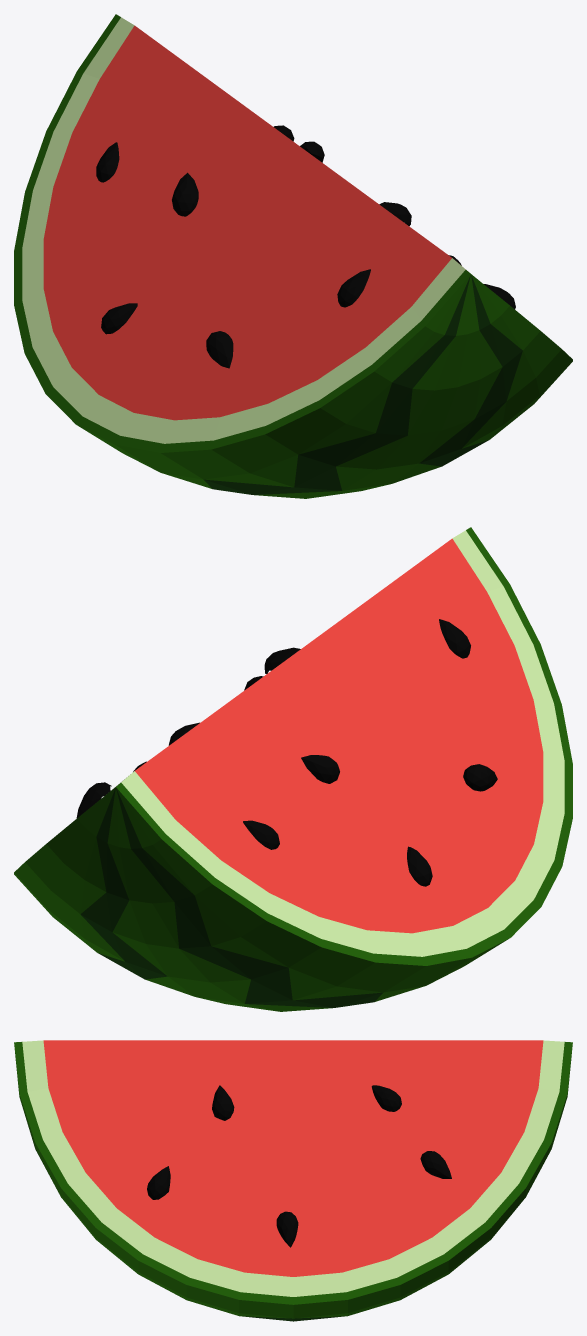
Rendered from watermelon.glb.
3 views of the same model, one above another, from view 1: azimuth 30°, elevation 25°; view 2: azimuth 150°, elevation 25°; view 3: azimuth 270°, elevation 25° (orthographic). The views are drawn at different scales.
Visible parts, largest first — view 1: watermelonFruit, watermelonPeel, seed.006, seed.014, seed.007, seed.008, seed.011; view 2: watermelonFruit, watermelonPeel, seed.006, seed.007, seed.014, seed.008, seed.011; view 3: watermelonFruit, seed.013, seed.009, seed.015, seed.018, seed.017.
Part boxes in pixels (bbox=[...]): watermelonFruit: bbox=[14, 14, 572, 498]; watermelonPeel: bbox=[204, 275, 522, 494]; seed.006: bbox=[172, 172, 198, 216]; seed.014: bbox=[206, 331, 233, 368]; seed.007: bbox=[337, 269, 370, 307]; seed.008: bbox=[101, 303, 137, 334]; seed.011: bbox=[96, 142, 119, 182]; watermelonFruit: bbox=[14, 527, 572, 1011]; watermelonPeel: bbox=[80, 788, 382, 1007]; seed.006: bbox=[301, 755, 339, 783]; seed.007: bbox=[439, 619, 470, 658]; seed.014: bbox=[463, 764, 497, 791]; seed.008: bbox=[407, 846, 432, 886]; seed.011: bbox=[243, 820, 279, 849]; watermelonFruit: bbox=[14, 1040, 572, 1318]; seed.013: bbox=[420, 1151, 451, 1178]; seed.009: bbox=[276, 1211, 298, 1247]; seed.015: bbox=[147, 1166, 170, 1199]; seed.018: bbox=[212, 1085, 234, 1120]; seed.017: bbox=[371, 1085, 401, 1111].
Bounding box in the file's own units: 0.6664 × 0.4389 × 0.9426.
